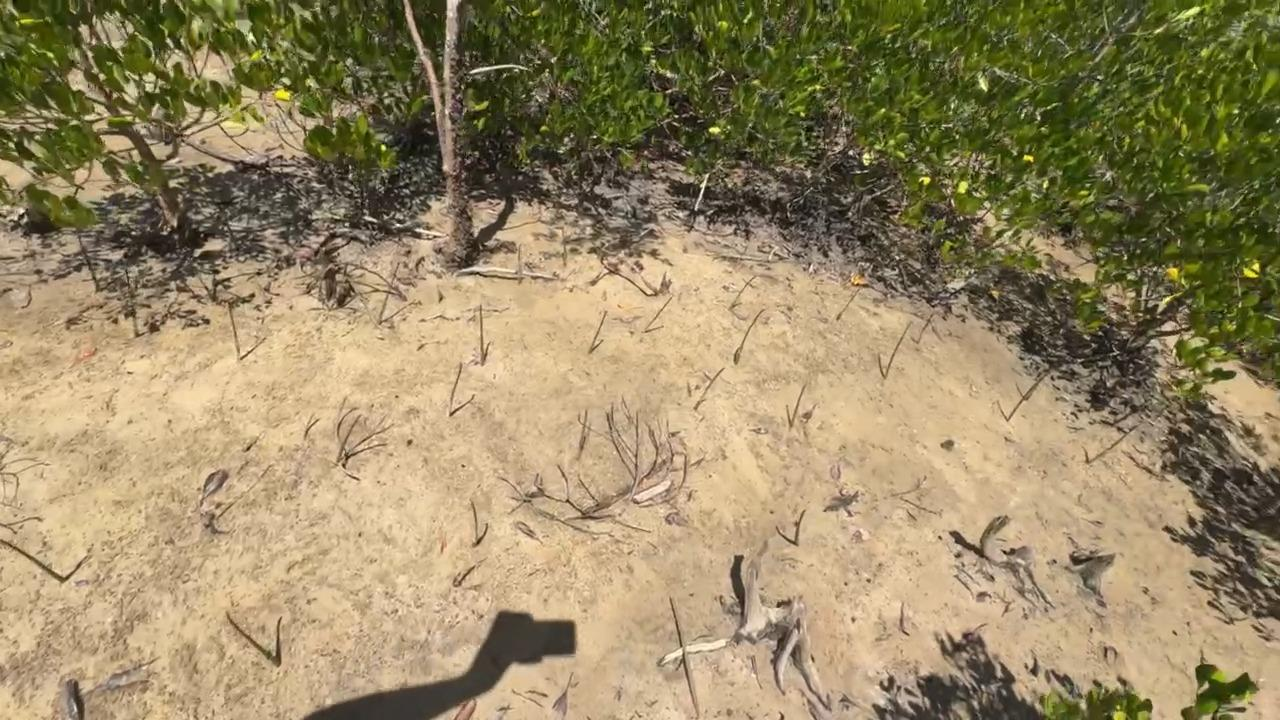Tree: (669, 594, 701, 717), (222, 610, 281, 666), (0, 537, 69, 584), (1005, 370, 1052, 423), (879, 320, 915, 379), (732, 306, 766, 367), (1086, 424, 1139, 463), (74, 225, 98, 289), (693, 365, 727, 410), (376, 261, 400, 322), (122, 261, 141, 334), (642, 295, 673, 334), (225, 297, 243, 363), (786, 380, 810, 429), (728, 273, 758, 310), (834, 285, 865, 320), (588, 309, 609, 354), (447, 361, 463, 415), (911, 312, 936, 345), (477, 303, 490, 365), (575, 409, 590, 461), (792, 508, 807, 547), (470, 521, 489, 547), (559, 225, 568, 265), (516, 242, 523, 283)
